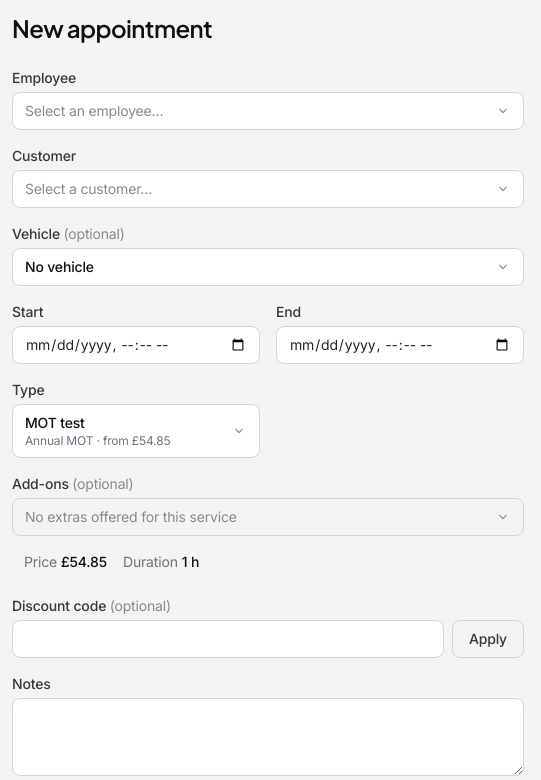
Scenario: AppointmentForm — creating › offers only the chosen customer’s vehicles
Click the dropdown labelled "Select a customer…" at (89, 188), box x1=12 y1=170 x2=524 y2=208
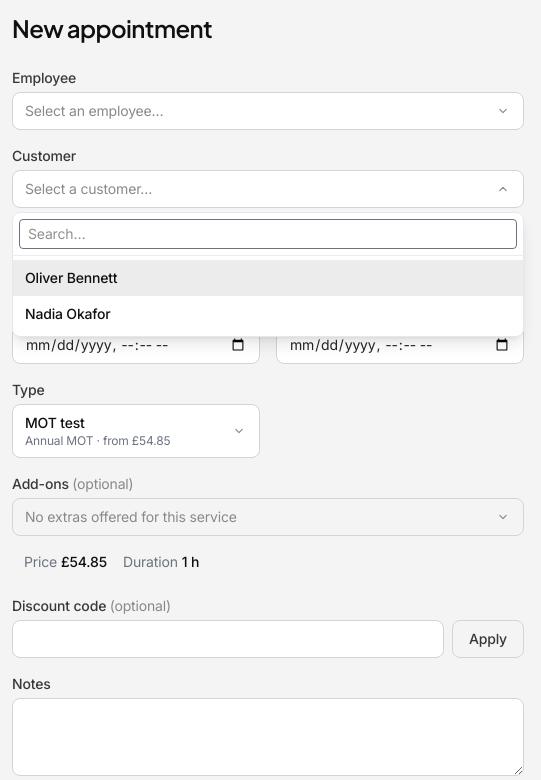
Click the option "Oliver Bennett" at (71, 278), box x1=13 y1=260 x2=523 y2=296
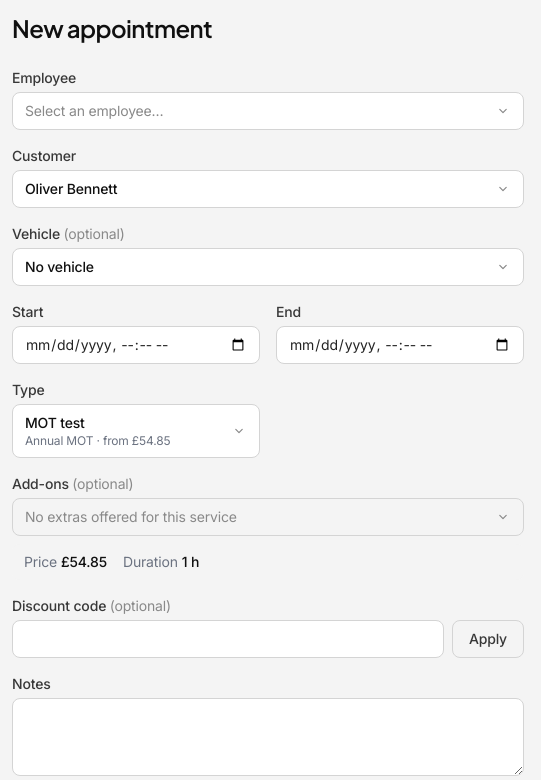
Click the dropdown labelled "No vehicle" at (59, 266), box x1=12 y1=248 x2=524 y2=286
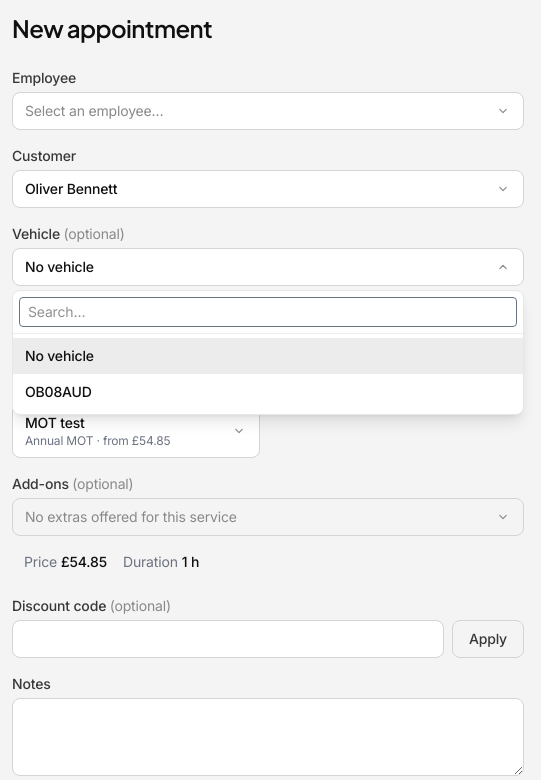
Result: the option "OB08AUD" is shown at x1=25 y1=383 x2=92 y2=400
